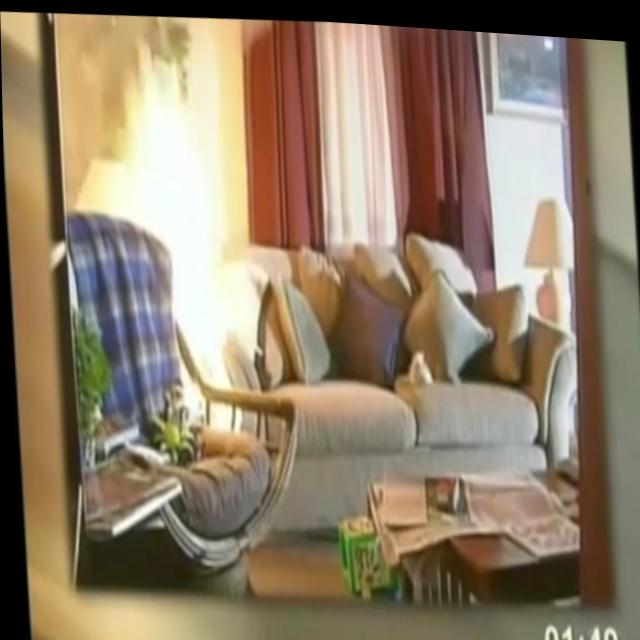fire: (123, 57, 257, 430)
